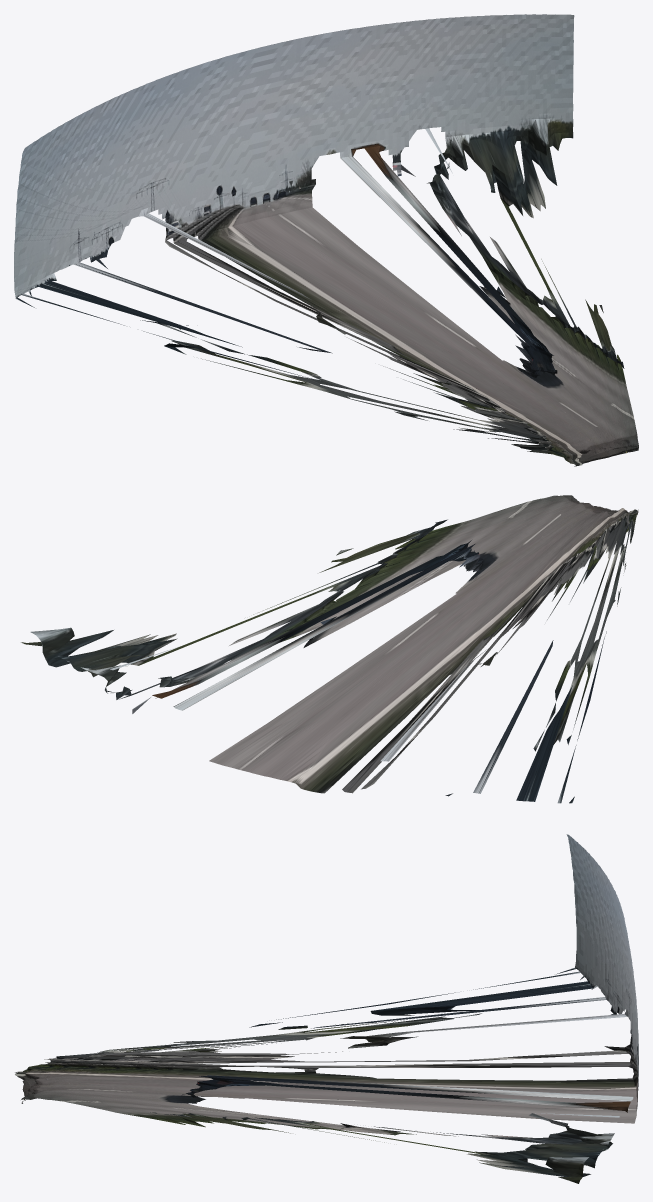
The picture shows the model from 3 angles, top to bottom: view 1: azimuth 30°, elevation 25°; view 2: azimuth 150°, elevation 25°; view 3: azimuth 270°, elevation 25°; orthographic projection. The views are drawn at different scales.
Visible parts, largest first — view 1: defaultobject; view 2: defaultobject; view 3: defaultobject.
Part boxes in pixels (x1,y1,x2,y2): defaultobject: (14,14,638,466); defaultobject: (21,495,638,803); defaultobject: (15,834,638,1183).
Bounding box in the file's own units: 41.16 × 12.85 × 44.75.
Materials: 1 (1 with a texture image).
